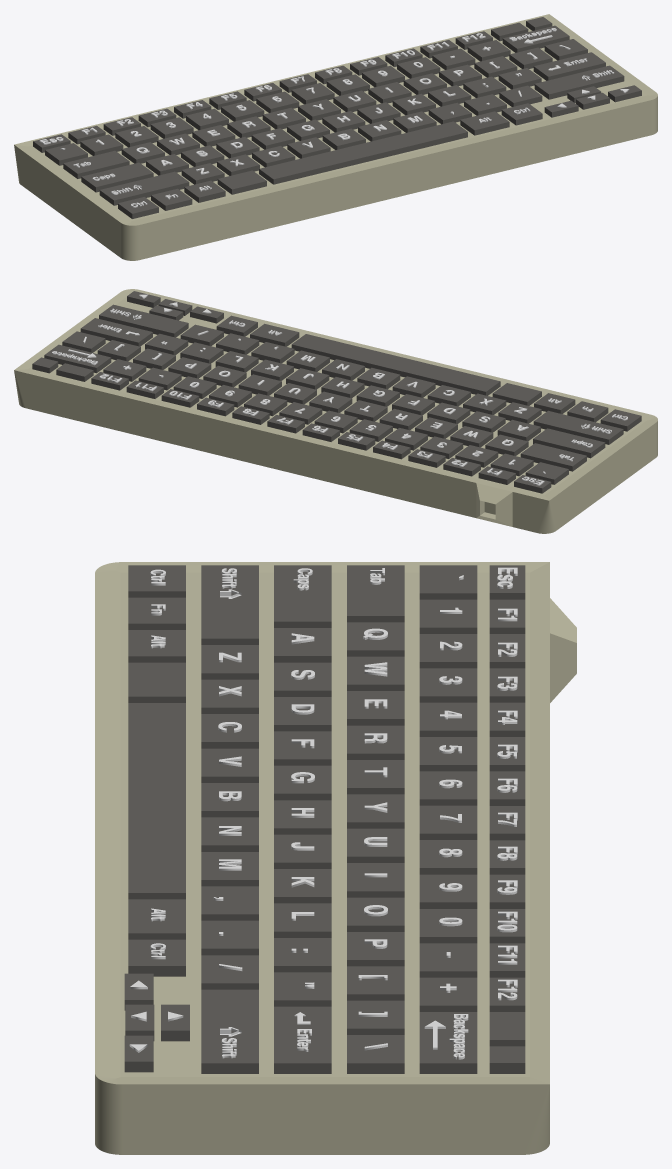
File: KeyBoard.glb
The picture shows the model from 3 angles, top to bottom: view 1: azimuth 30°, elevation 25°; view 2: azimuth 150°, elevation 25°; view 3: azimuth 270°, elevation 25°; orthographic projection. The views are drawn at different scales.
Visible parts, largest first — view 1: Plane, TopRow, Row3, Row3.001, Row2, Row3.002; view 2: Plane, TopRow, Row3, Row3.001, Row2, Row3.002; view 3: Plane, TopRow, Row3, Row3.001, Row2, Row3.002, TopRow.002.
Boxes of the visible parts, bbox=[...] form: Plane: bbox=[14, 14, 657, 260]; TopRow: bbox=[39, 59, 376, 144]; Row3: bbox=[136, 45, 570, 153]; Row3.001: bbox=[161, 73, 521, 166]; Row2: bbox=[60, 46, 490, 149]; Row3.002: bbox=[196, 90, 521, 174]; Plane: bbox=[14, 289, 657, 533]; TopRow: bbox=[208, 400, 544, 485]; Row3: bbox=[83, 336, 513, 445]; Row3.001: bbox=[161, 341, 528, 431]; Row2: bbox=[123, 365, 545, 473]; Row3.002: bbox=[197, 330, 527, 413]; Plane: bbox=[95, 562, 576, 1154]; TopRow: bbox=[497, 567, 517, 894]; Row3: bbox=[358, 628, 387, 1050]; Row3.001: bbox=[291, 633, 314, 988]; Row2: bbox=[439, 575, 463, 992]; Row3.002: bbox=[213, 652, 242, 970]; TopRow.002: bbox=[497, 911, 517, 1000].
Bounding box in the file's own units: 2.62 × 0.1922 × 1.02.
